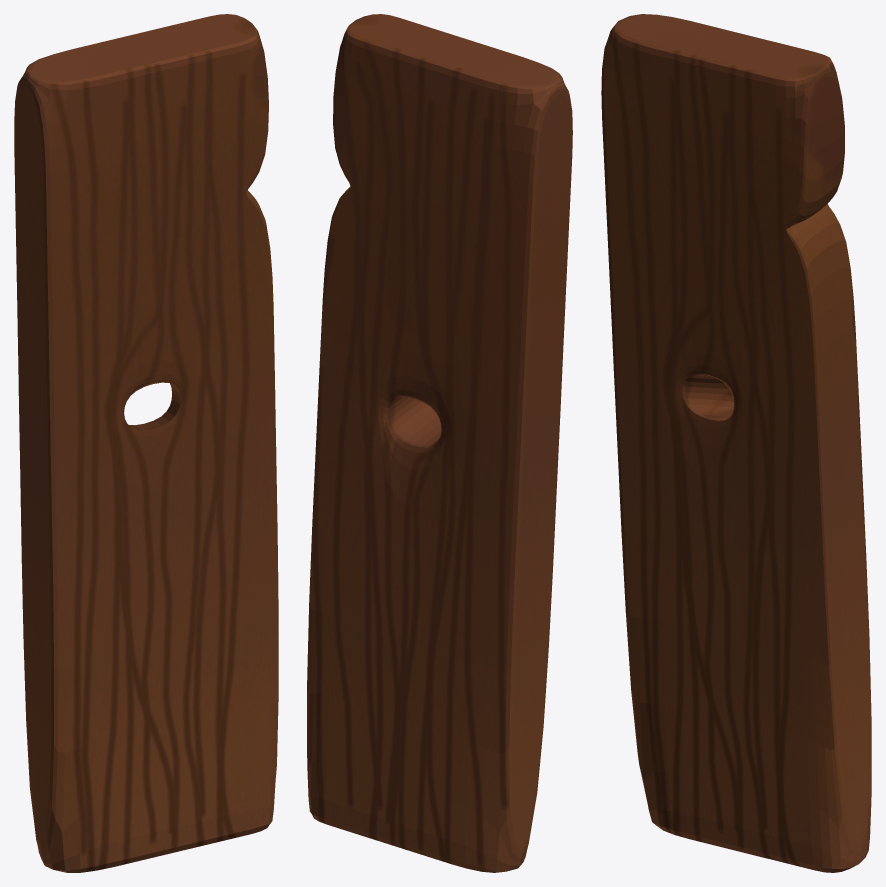
File: wood_plank.fbx
3 views of the same model, side by side, from view 1: azimuth 30°, elevation 25°; view 2: azimuth 150°, elevation 25°; view 3: azimuth 330°, elevation 25° (orthographic). The views are drawn at different scales.
Visible parts, largest first — view 1: node_id4; view 2: node_id4; view 3: node_id4.
Part boxes in pixels (x1=…): node_id4: x1=14, y1=14, x2=278, y2=872; node_id4: x1=307, y1=14, x2=572, y2=872; node_id4: x1=601, y1=14, x2=871, y2=872.
Bounding box in the file's own units: 0.0417 × 0.133 × 0.0159.
Materials: 1 (1 with a texture image).
